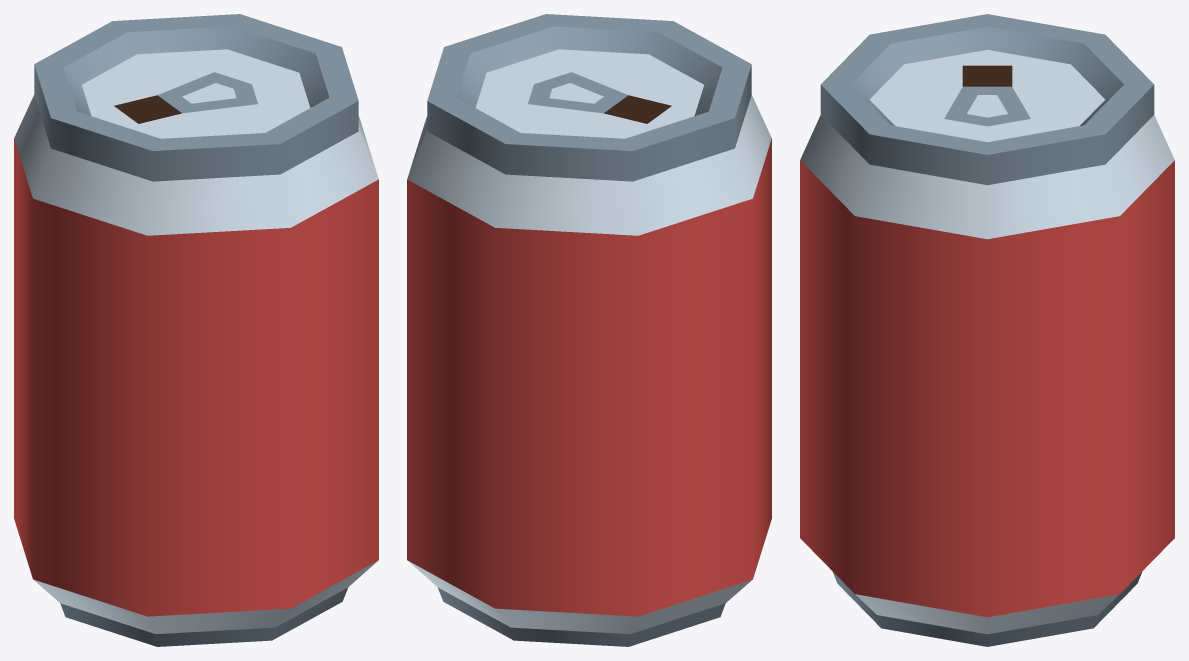
Rendered from coke.glb.
3 views of the same model, side by side, from view 1: azimuth 30°, elevation 25°; view 2: azimuth 150°, elevation 25°; view 3: azimuth 270°, elevation 25° (orthographic).
Parts seen in each view (by area): view 1: sodaCan; view 2: sodaCan; view 3: sodaCan.
Boxes of the visible parts, bbox=[...] form: sodaCan: bbox=[14, 14, 378, 646]; sodaCan: bbox=[407, 14, 771, 646]; sodaCan: bbox=[800, 14, 1174, 646].
Bounding box in the file's own units: 0.2246 × 0.33 × 0.2246.
